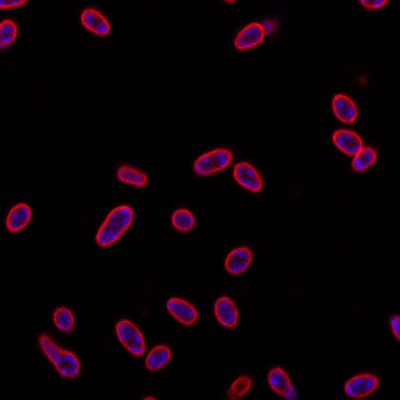Mecillinam: (94, 203, 135, 248), (115, 318, 146, 359), (192, 147, 233, 175), (164, 295, 199, 326), (342, 373, 380, 400), (78, 7, 111, 37), (233, 160, 263, 191), (222, 244, 252, 275), (331, 93, 359, 124), (349, 144, 378, 173), (145, 343, 174, 372), (331, 130, 363, 156), (6, 202, 32, 234), (213, 296, 238, 328)
Oblique: (37, 331, 82, 379), (233, 17, 283, 52), (116, 164, 149, 189), (169, 208, 197, 232), (51, 306, 76, 332)
